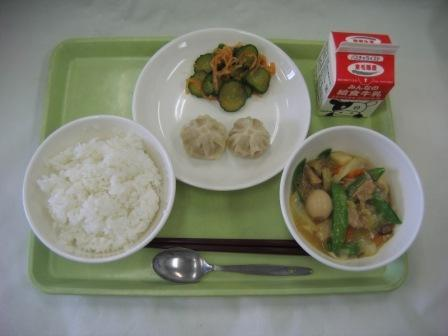Milk: (309, 25, 393, 115)
Rice: (32, 120, 164, 258)
manty: (182, 109, 270, 166)
salad with sauce: (193, 35, 278, 106)
vegetable based cooked food: (289, 136, 411, 253)
